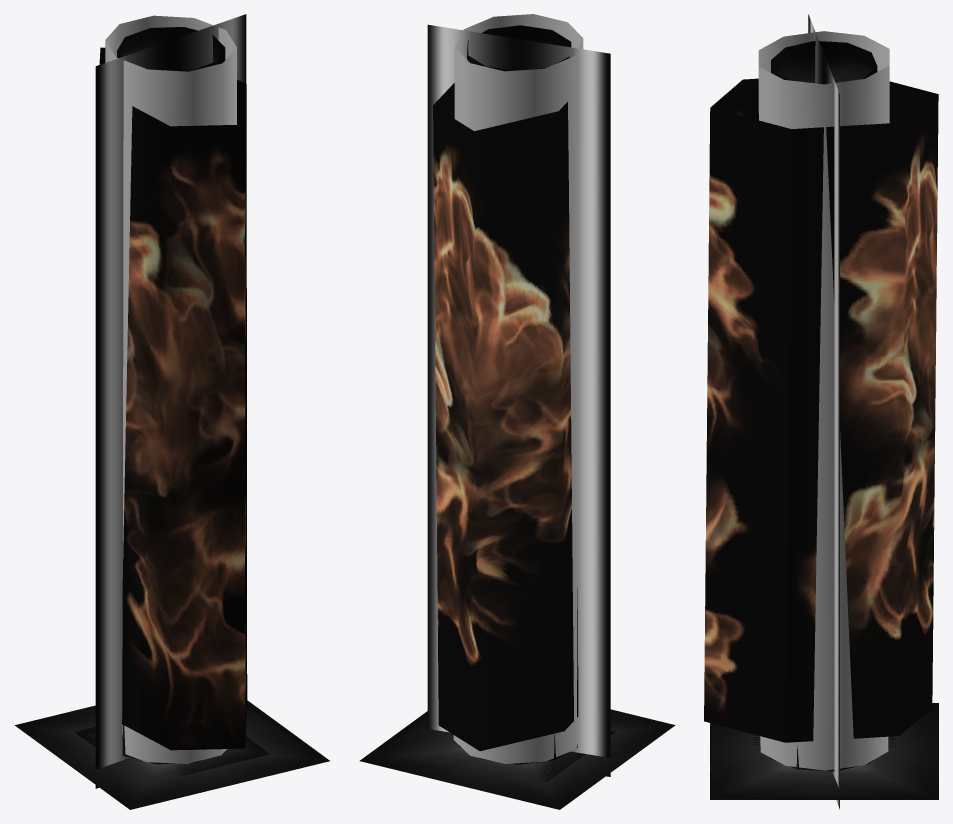
File: Beam.obj
3 views of the same model, side by side, from view 1: azimuth 30°, elevation 25°; view 2: azimuth 150°, elevation 25°; view 3: azimuth 270°, elevation 25° (orthographic).
Parts seen in each view (by area): view 1: world_azeroth_zulgurub_passivedoodads_cauldrons_cauldronbeam_fir; view 2: world_azeroth_zulgurub_passivedoodads_cauldrons_cauldronbeam_fir; view 3: world_azeroth_zulgurub_passivedoodads_cauldrons_cauldronbeam_fir.
Boxes of the visible parts, x1,y1,x2,y2 form: world_azeroth_zulgurub_passivedoodads_cauldrons_cauldronbeam_fir: (15,14,329,809); world_azeroth_zulgurub_passivedoodads_cauldrons_cauldronbeam_fir: (360,14,675,809); world_azeroth_zulgurub_passivedoodads_cauldrons_cauldronbeam_fir: (704,14,938,809).
Size of the model in its own units: 11.95 by 41.18 by 12.26.
